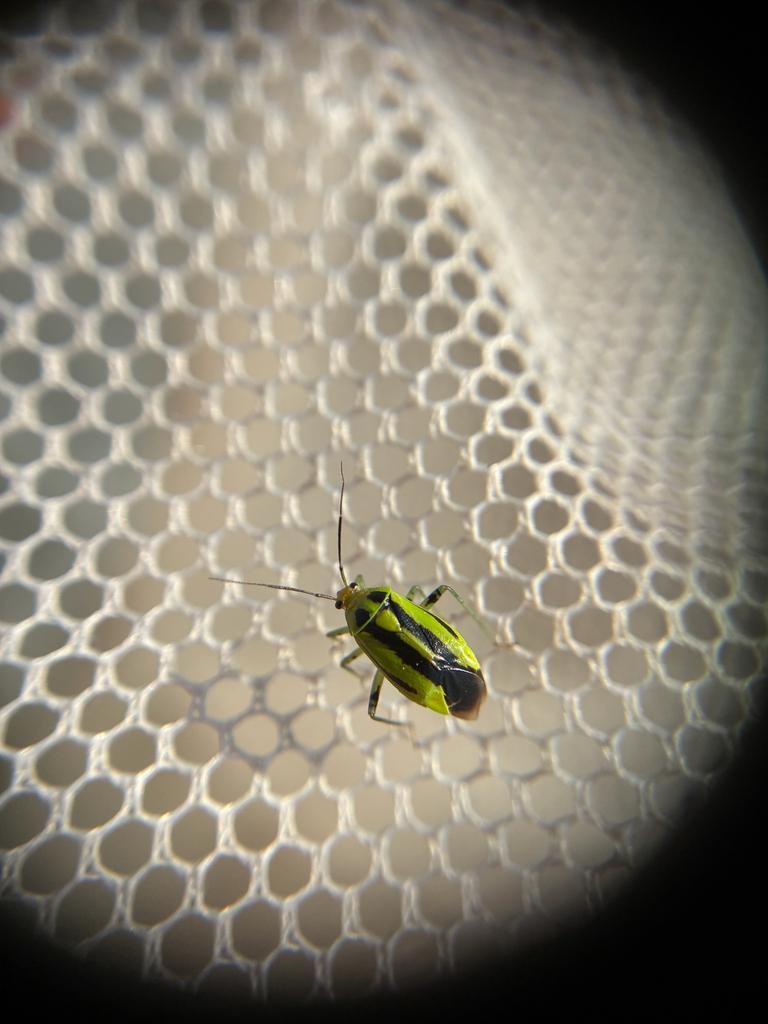plant_bugs: (186, 430, 539, 781)
